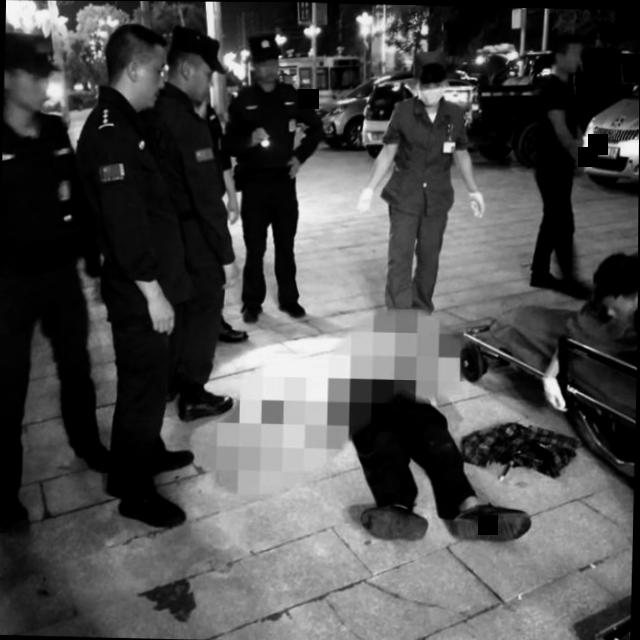Fall-Detected: (297, 318, 547, 566)
